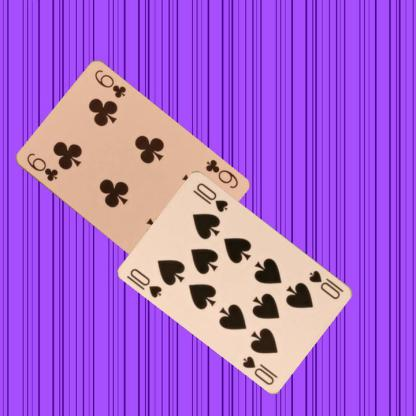10s: (306, 268, 345, 300), (127, 266, 164, 299)
6c: (202, 157, 239, 190), (24, 150, 59, 183)
